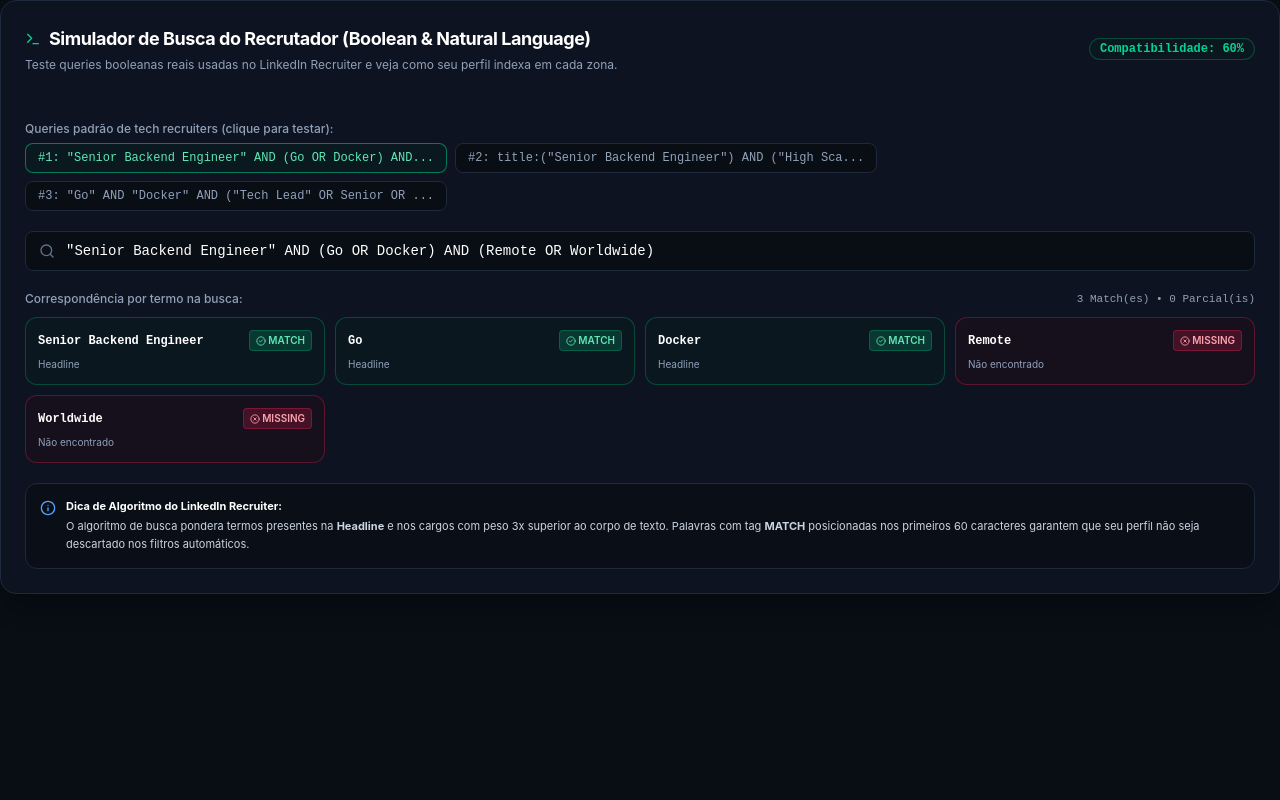
Test: RecruiterSearchSimulator Component › supports short tech terms like Go and C# without dropping them
Replace the text in the field with placeholder "Ex: \"Senior Backend Engineer\" AND (Java OR Go) AND Kafka" with "Go AND Kubernetes" at (640,251), box [25,231,1255,271]
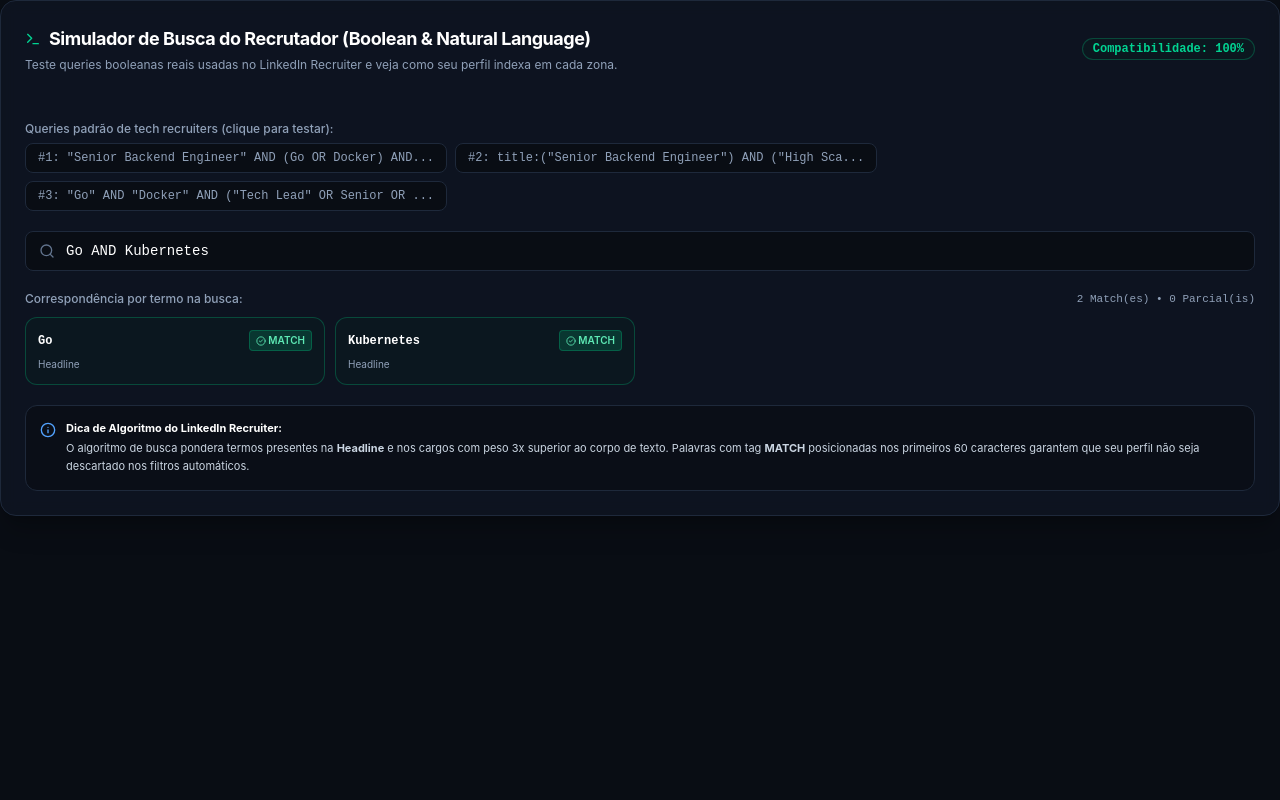
Expected: the text "Go" is shown, [38,332,52,348]
Expected: the text "Kubernetes" is shown, [348,332,420,348]
Expected: the text "2 Match(es) • 0 Parcial(is)" is shown, [1077,292,1255,306]
